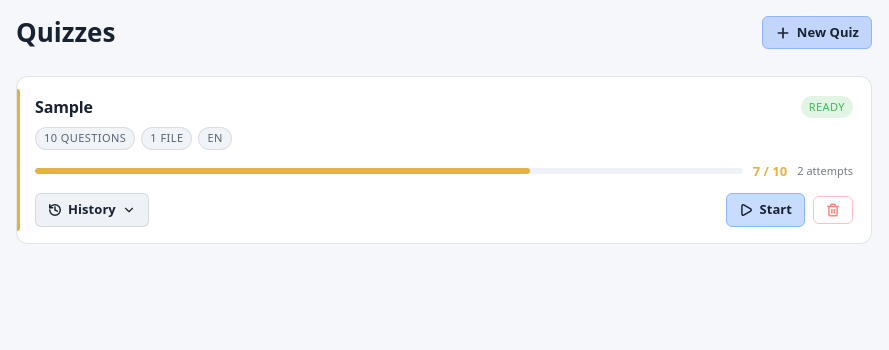
Test: QuizListView › clicking History fetches and renders the attempt list
Step 1. Click the button with aria-label "show history" → (92, 210), box [35, 193, 149, 226]
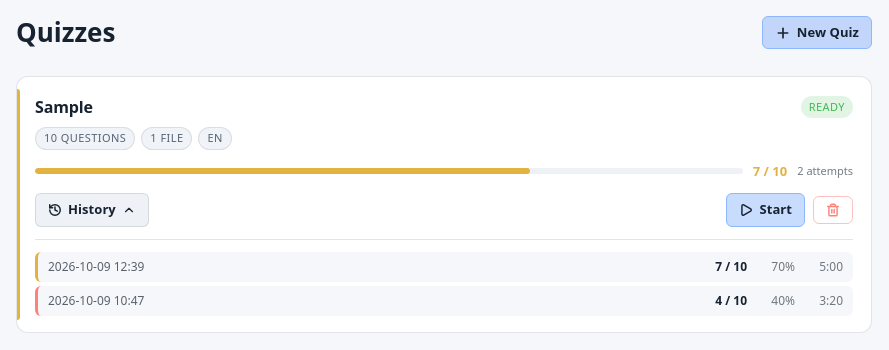
Result: the text "70%" is shown at [771, 258, 795, 274]
Result: the text "40%" is shown at [771, 292, 795, 308]
